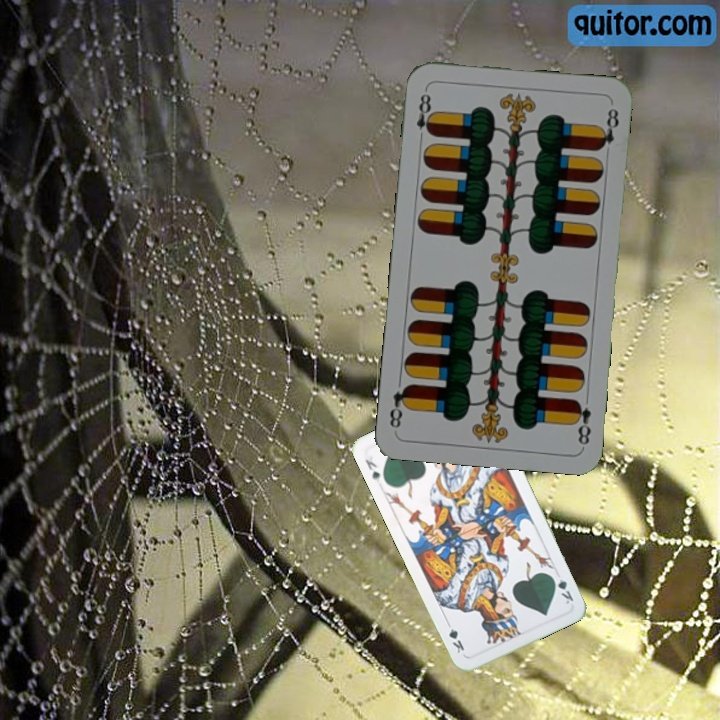E8: (412, 85, 437, 144), (569, 395, 594, 448)
GK: (548, 571, 576, 606), (361, 452, 383, 485)
